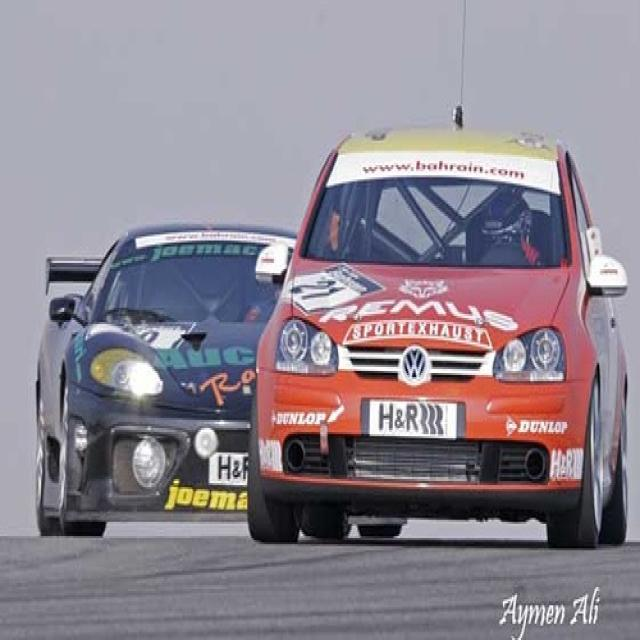car: (250, 124, 630, 550), (32, 222, 300, 538)
